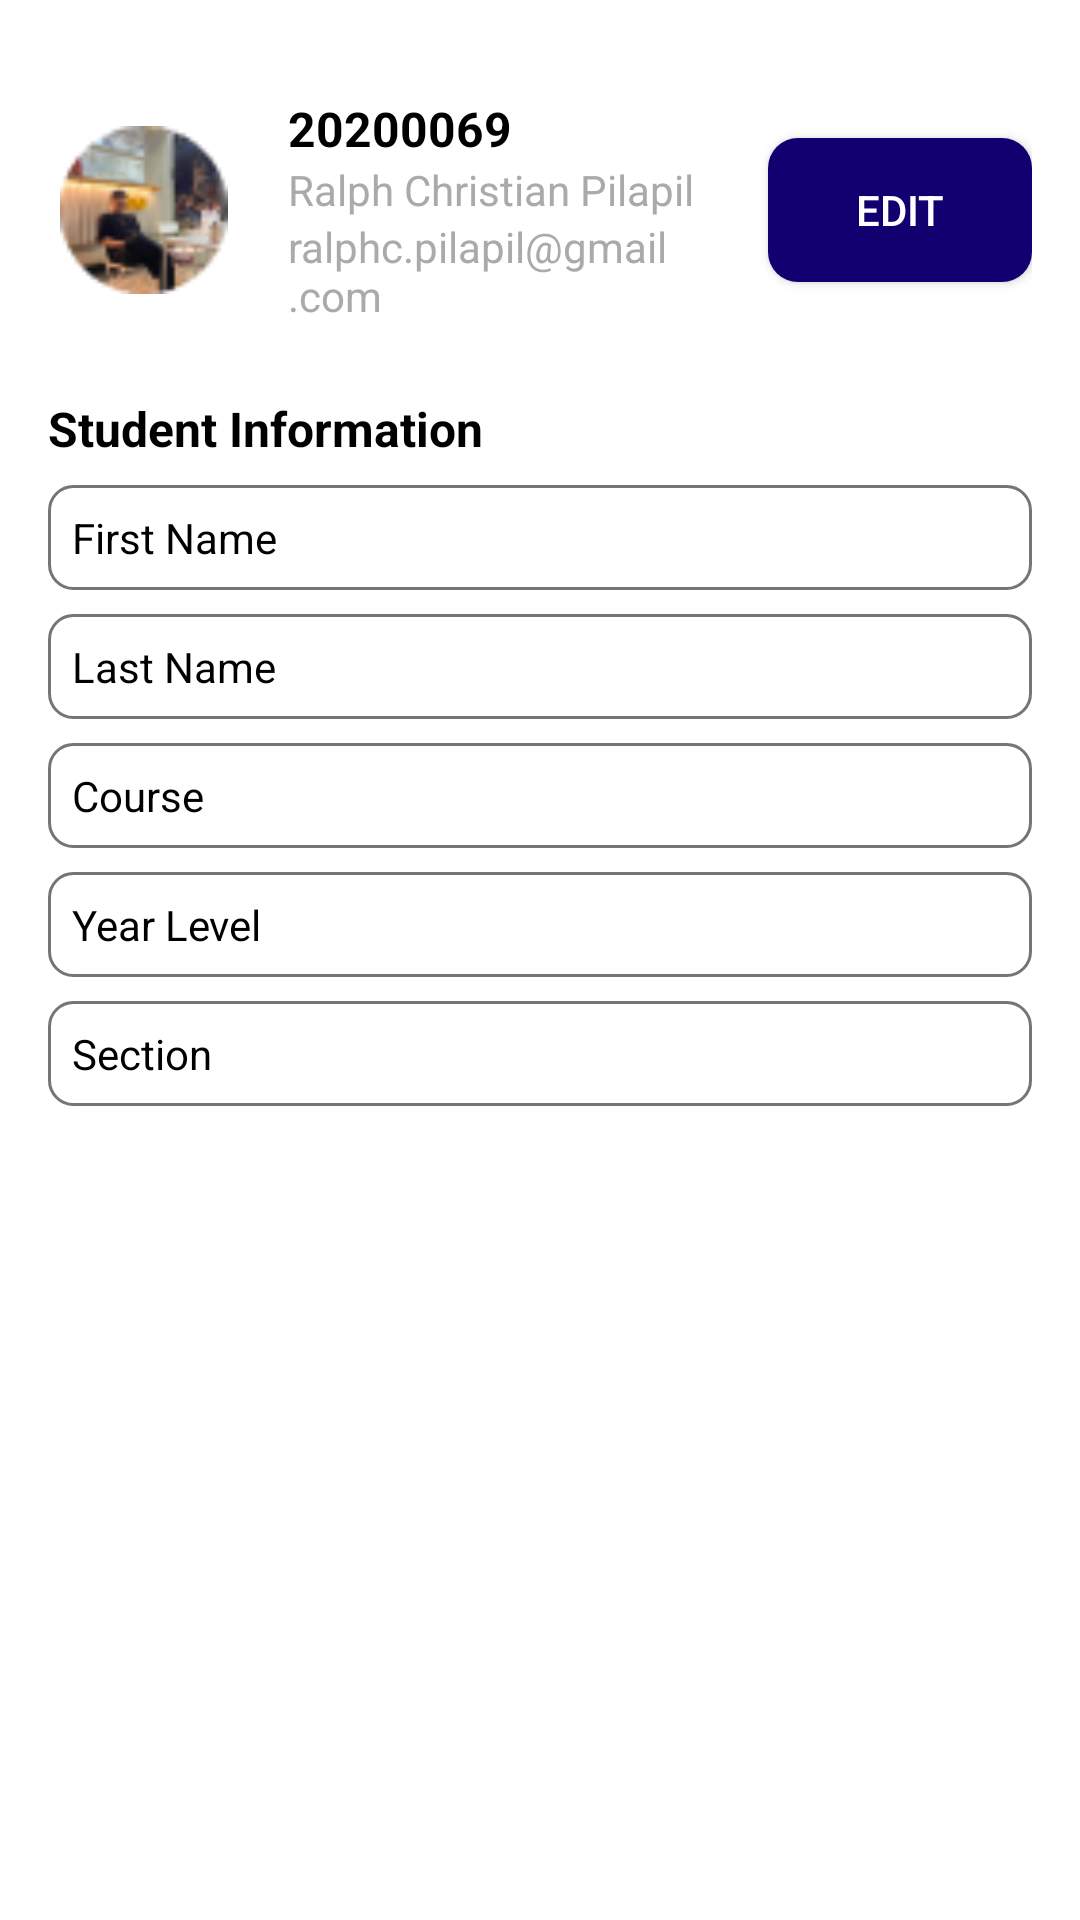

Icon click points for this 1080px x 1920px phone screenshot, format (x=x, y=y):
Profile Picture: (x=144, y=210)
